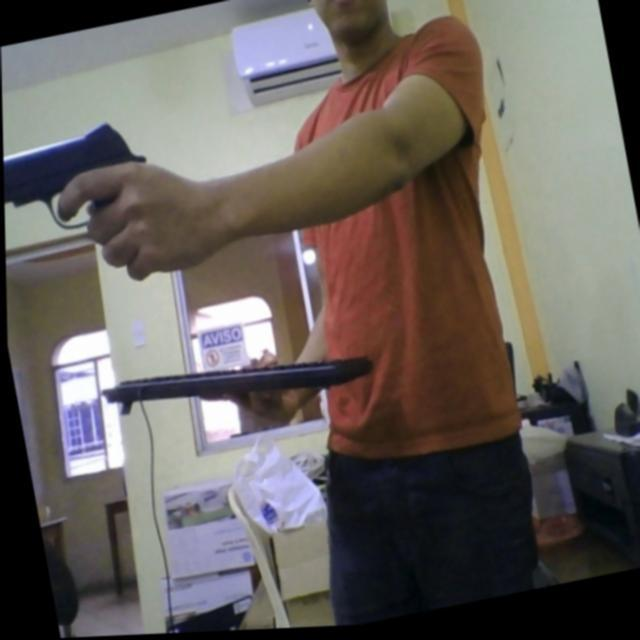weapon: (2, 108, 155, 242)
